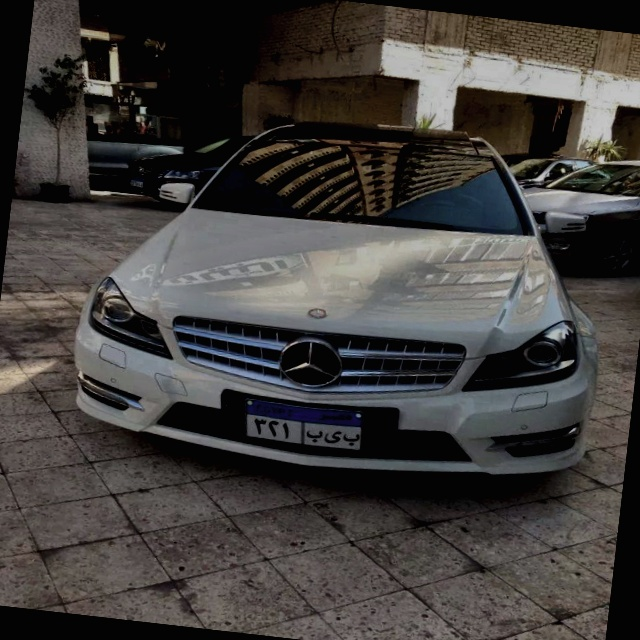License Plate: (239, 397, 368, 453)
